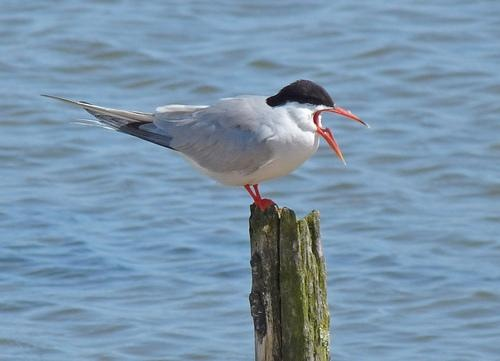bird: (46, 72, 372, 213)
